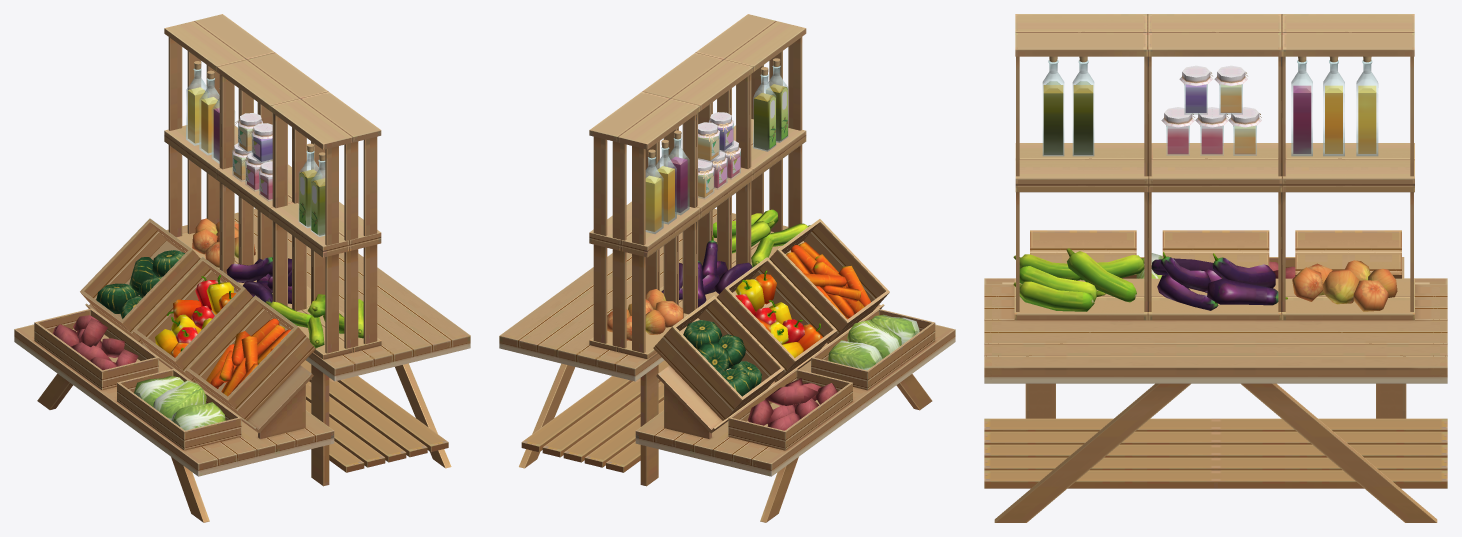
Rendered from my_shoppingmall_01_vegetablestand_01.glb.
The picture shows the model from 3 angles, left to right: view 1: azimuth 30°, elevation 25°; view 2: azimuth 150°, elevation 25°; view 3: azimuth 270°, elevation 25°; orthographic projection. The views are drawn at different scales.
Visible parts, largest first — view 1: my_shoppingmall_01_vegetablestand_01; view 2: my_shoppingmall_01_vegetablestand_01; view 3: my_shoppingmall_01_vegetablestand_01.
Part boxes in pixels (x1,y1,x2,y2): my_shoppingmall_01_vegetablestand_01: (14, 14, 470, 522); my_shoppingmall_01_vegetablestand_01: (499, 14, 955, 522); my_shoppingmall_01_vegetablestand_01: (984, 14, 1447, 522).
Size of the model in its own units: 0.0098 by 0.0119 by 0.0115.
2 materials, 2 textured.
